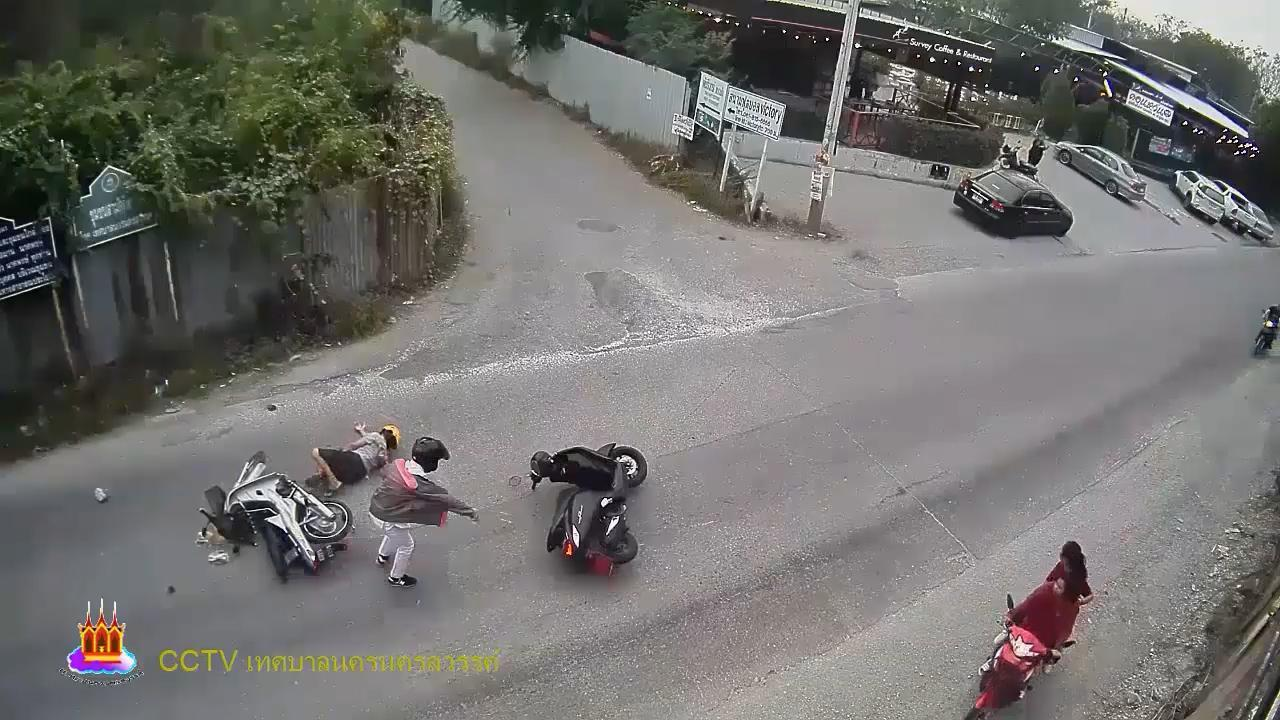accident: (305, 420, 399, 498)
